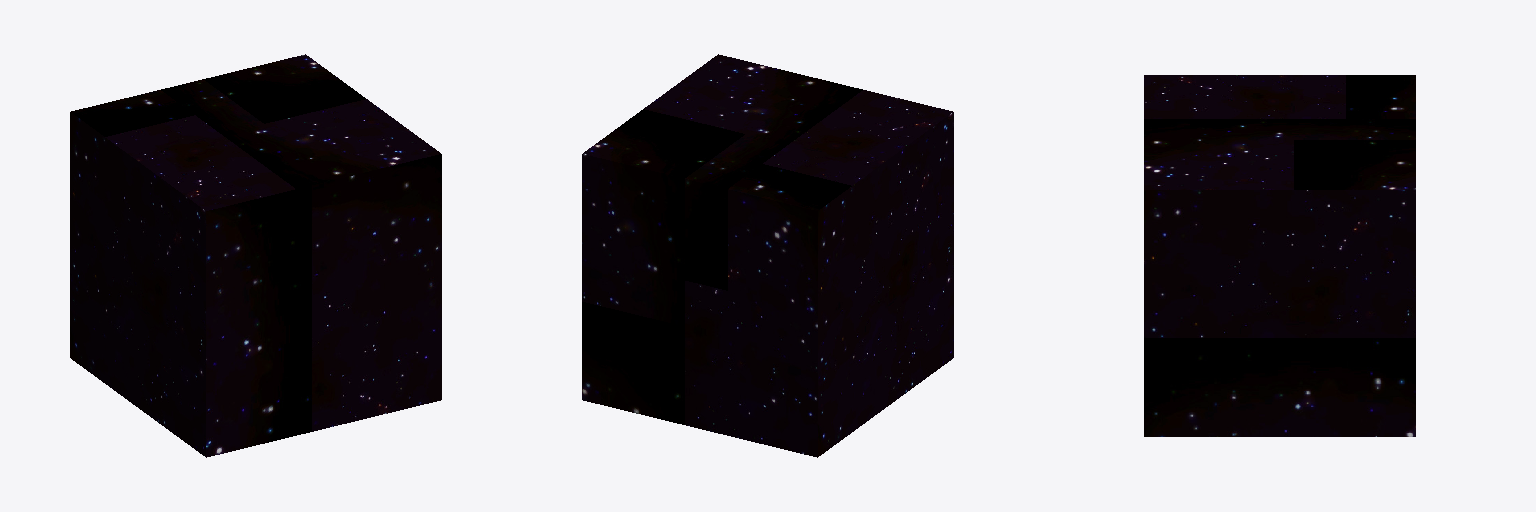
3 renders of one model, left to right at view 1: azimuth 30°, elevation 25°; view 2: azimuth 150°, elevation 25°; view 3: azimuth 270°, elevation 25°, orthographic.
Visible parts, largest first — view 1: Cube; view 2: Cube; view 3: Cube.
Part boxes in pixels (bbox=[...]): Cube: bbox=[70, 54, 441, 457]; Cube: bbox=[582, 54, 953, 457]; Cube: bbox=[1144, 75, 1415, 436].
Bounding box in the file's own units: 40 × 40 × 40.
1 materials, 1 textured.